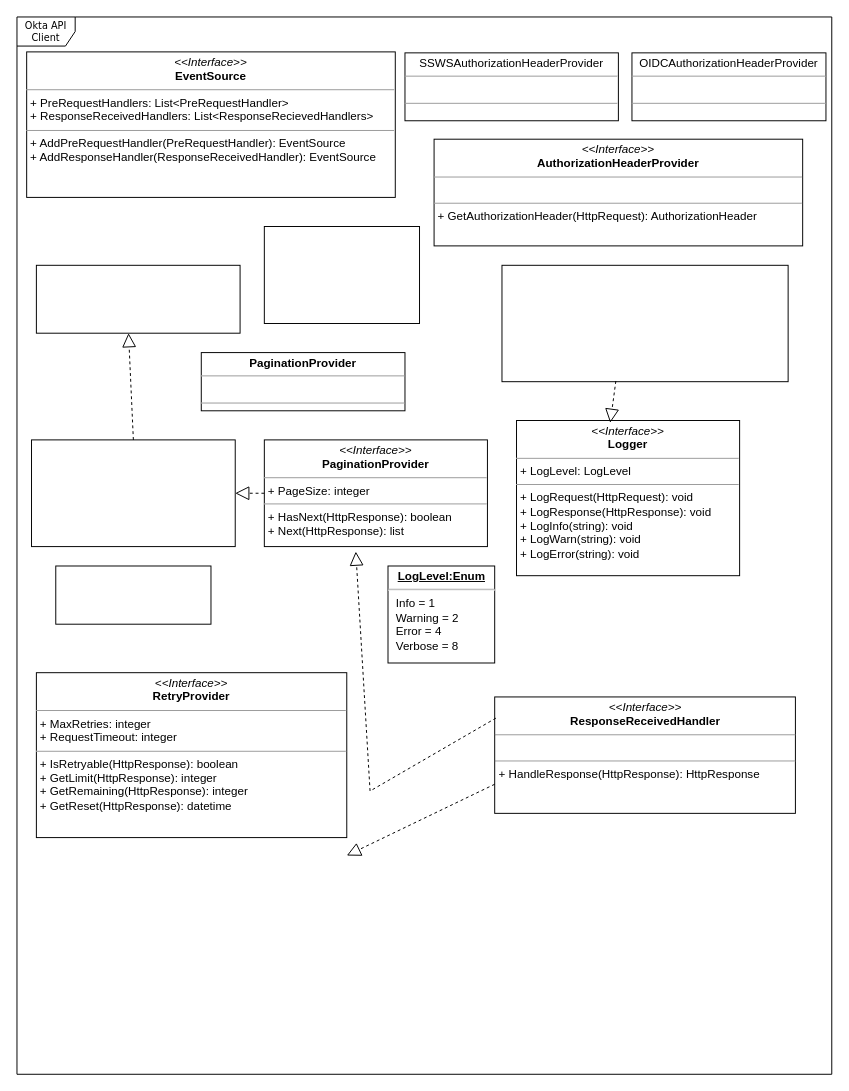
This 849x1091 diagram has some shape labels left out. Each missing label, with the box of its shape:
<<Interface>> PreFetchPaginationProvider + PageCount: integer: (31, 439, 235, 547)
<<Interface>> PreRequestHandler + PreHandleRequest(HttpRequest): HttpRequest: (501, 264, 788, 382)
AuthorizationHeader + Name: string + TokenType: string + Value: string: (263, 226, 420, 323)
PreFetchPaginationProvider: (35, 264, 240, 333)
RetryProvider: (55, 565, 211, 624)
